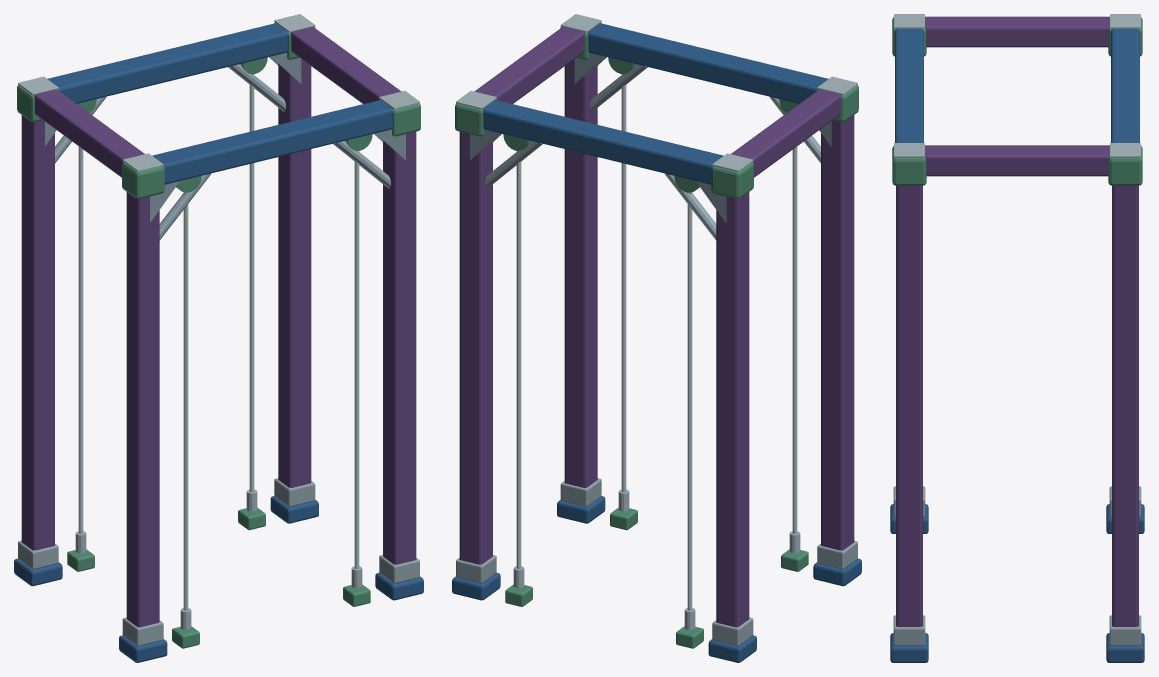
File: adventure_hanger.glb
The picture shows the model from 3 angles, left to right: view 1: azimuth 30°, elevation 25°; view 2: azimuth 150°, elevation 25°; view 3: azimuth 270°, elevation 25°; orthographic projection. The views are drawn at different scales.
Visible parts, largest first — view 1: adventure_hanger; view 2: adventure_hanger; view 3: adventure_hanger.
Part boxes in pixels (box(x1,y1,x2,y2)): adventure_hanger: box(14, 14, 423, 662); adventure_hanger: box(452, 14, 861, 662); adventure_hanger: box(890, 14, 1144, 662).
Bounding box in the file's own units: 2.7 × 4.4 × 2.
